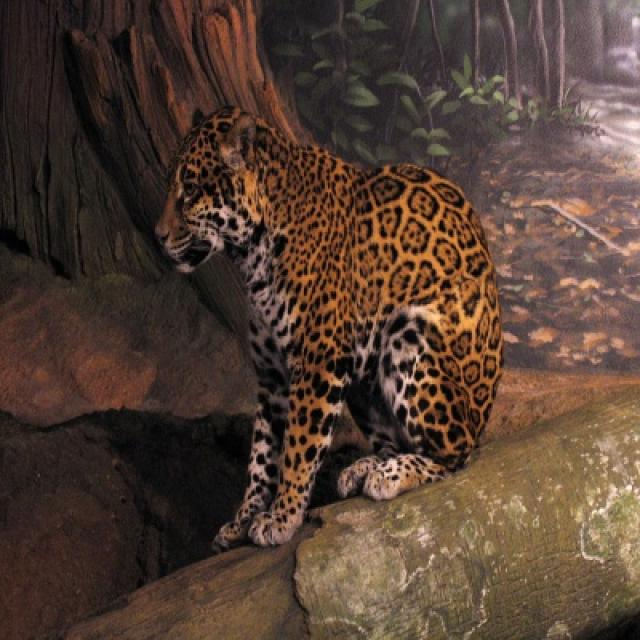Jaguar: (139, 93, 512, 562)
